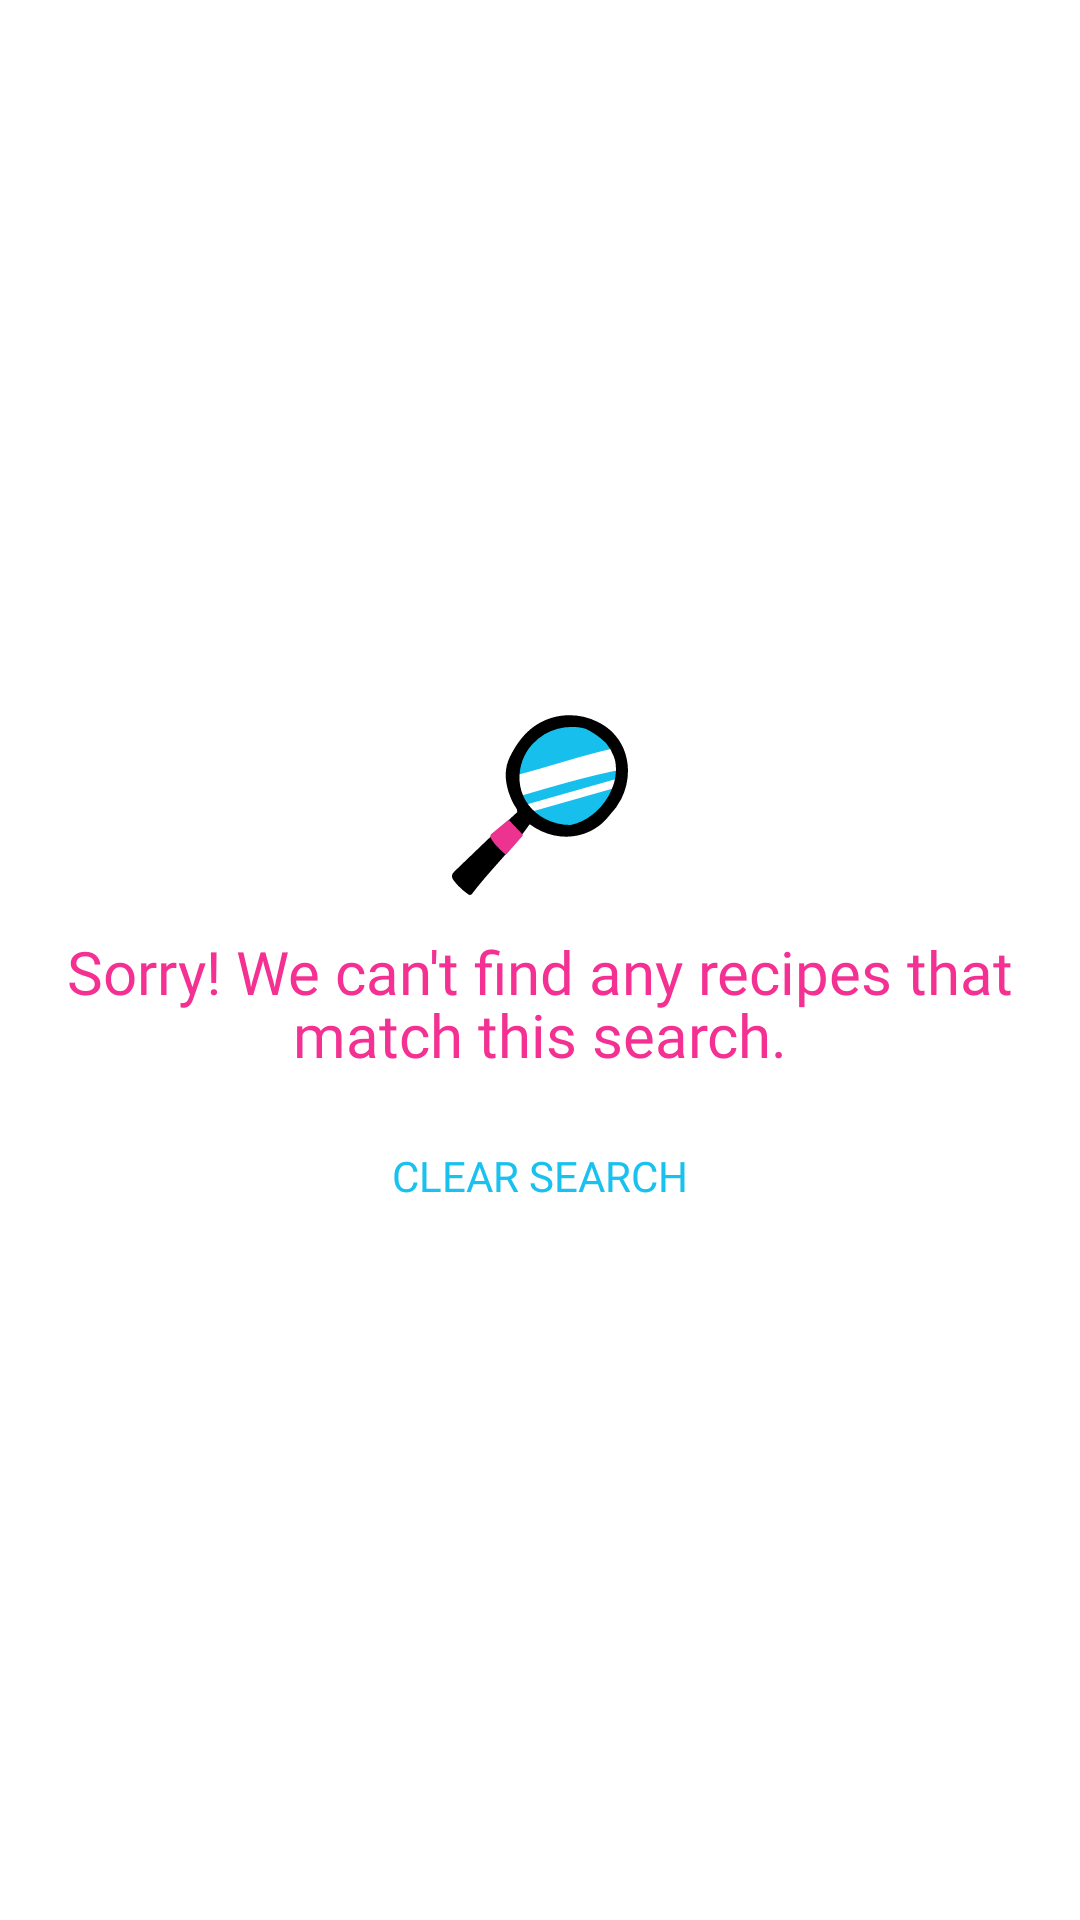

Where icons sit on this 1080px×1920px app screen, as (x1, y1, x2, y2):
search no results: (452, 715, 628, 895)
